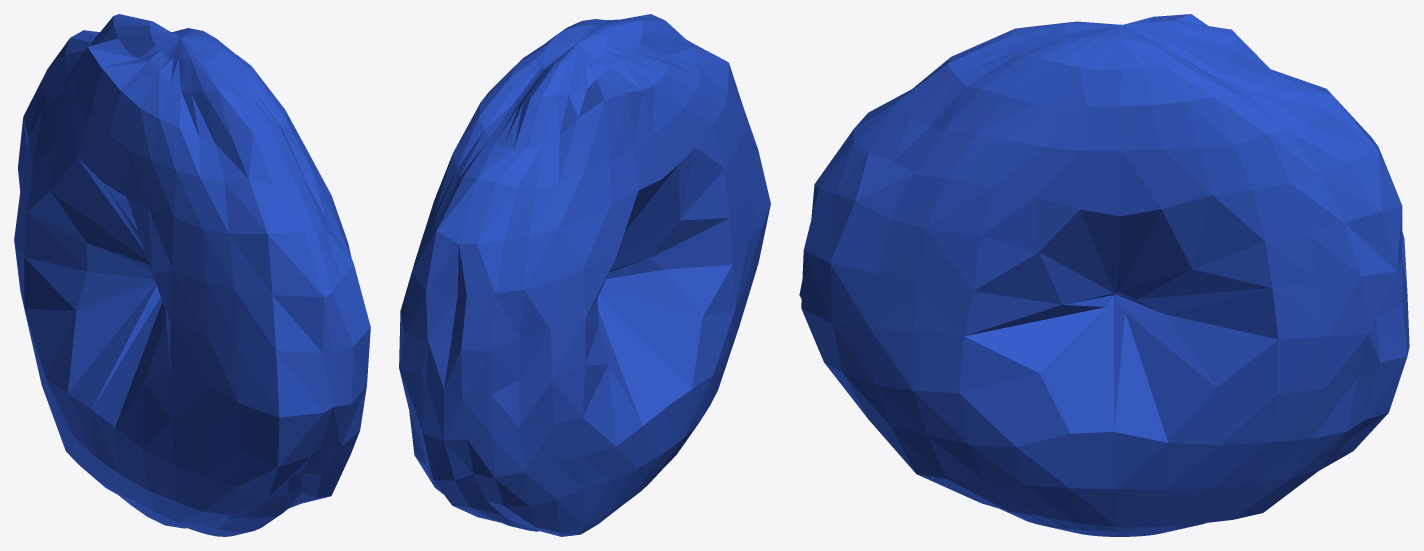
Rendered from flatBullet1.obj.
The picture shows the model from 3 angles, left to right: view 1: azimuth 30°, elevation 25°; view 2: azimuth 150°, elevation 25°; view 3: azimuth 270°, elevation 25°; orthographic projection. The views are drawn at different scales.
Visible parts, largest first — view 1: Sphere; view 2: Sphere; view 3: Sphere.
Boxes of the visible parts, x1,y1,x2,y2 form: Sphere: [14, 14, 370, 536]; Sphere: [399, 14, 770, 536]; Sphere: [799, 14, 1409, 536].
Size of the model in its own units: 0.0317 by 0.0774 by 0.0843.
